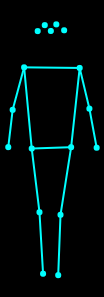mountain: (3, 16, 100, 280)
